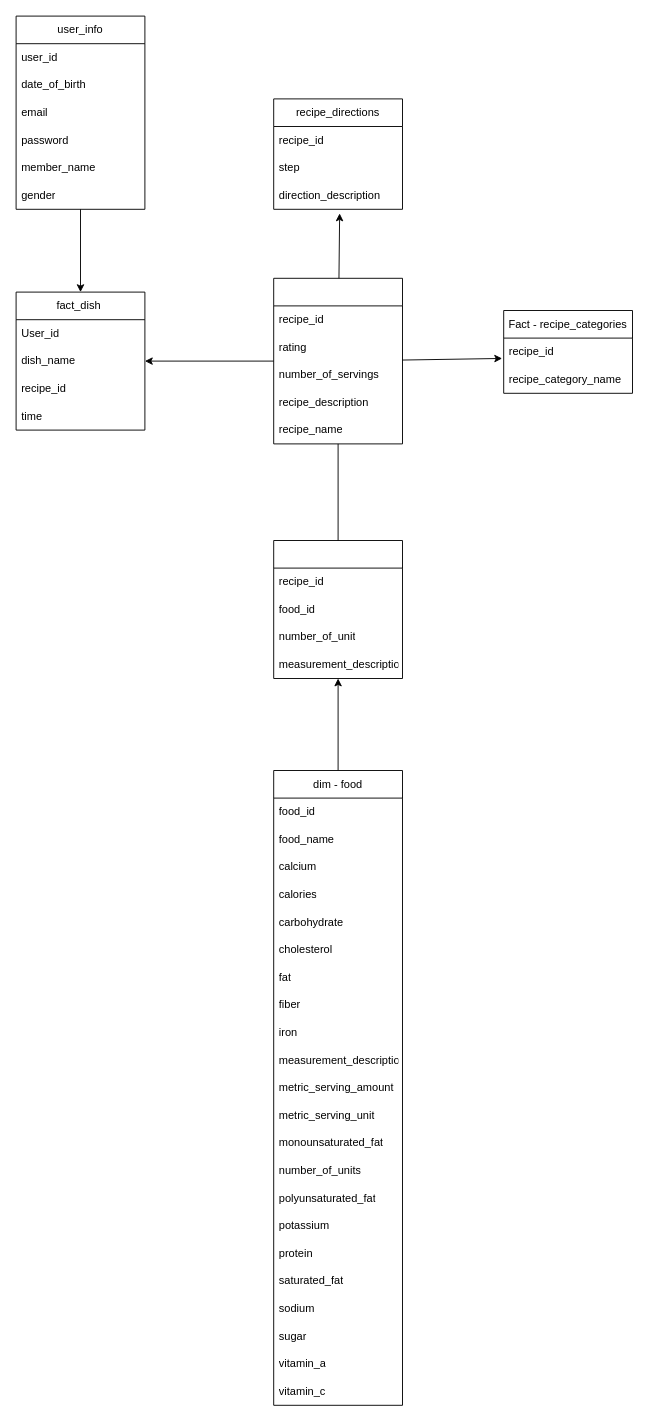
Some shapes in this 649 by 1421 pixel diagram are drawn without their labels. The box of each missing label's shape, as (x1, y1, x2, y2) in pixels:
Dim - Recipe: (273, 277, 402, 444)
Fact - recipe_ingredients: (273, 540, 402, 678)
